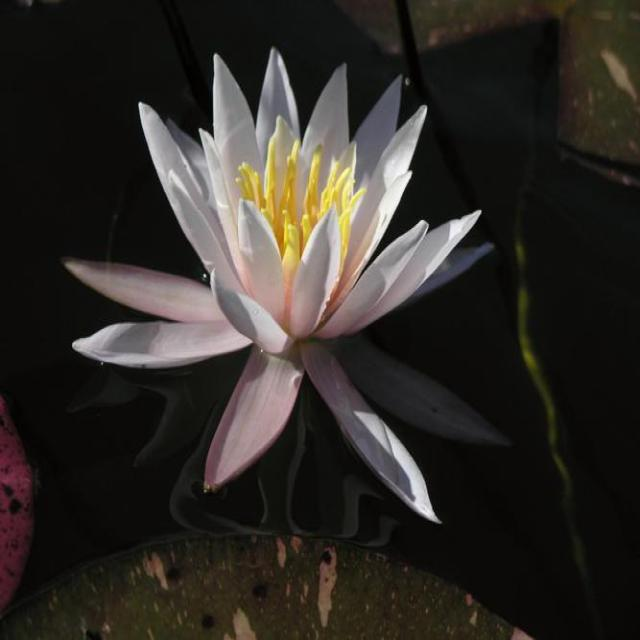rose: (51, 11, 521, 640)
